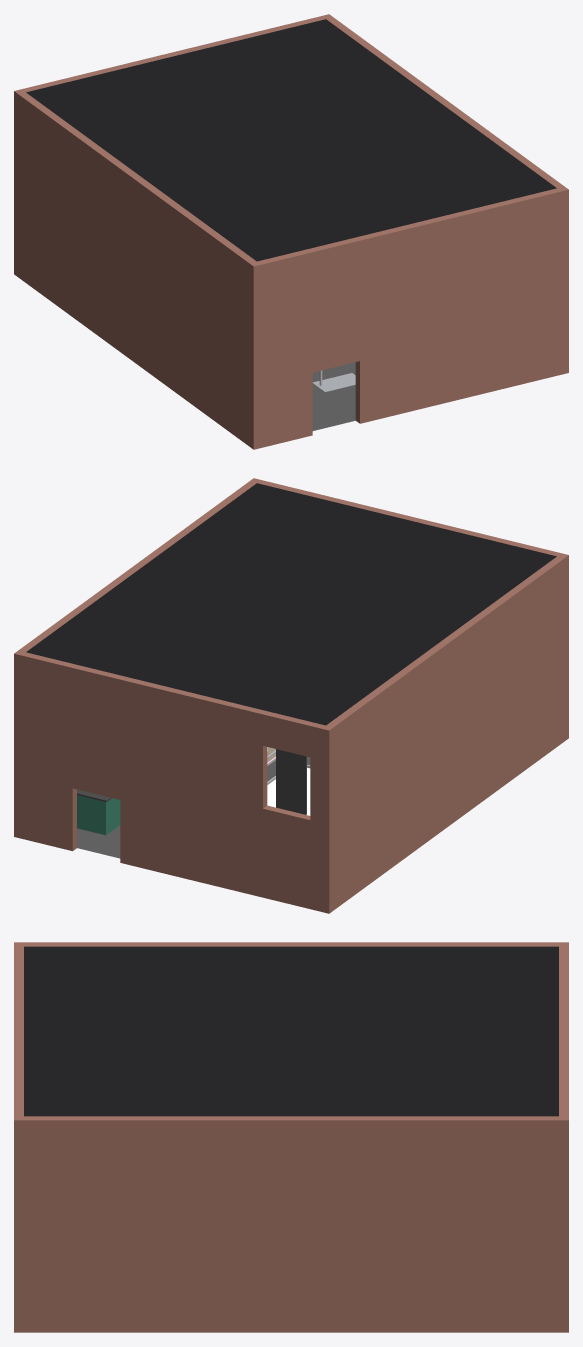
The model's file is shop.glb.
3 views of the same model, one above another, from view 1: azimuth 30°, elevation 25°; view 2: azimuth 150°, elevation 25°; view 3: azimuth 270°, elevation 25° (orthographic). The views are drawn at different scales.
Visible parts, largest first — view 1: shop; view 2: shop; view 3: shop.
Part boxes in pixels (x1,y1,x2,y2): shop: (14,14,568,449); shop: (14,478,568,913); shop: (14,942,568,1332).
Size of the model in its own units: 12.6 by 7 by 16.6.
